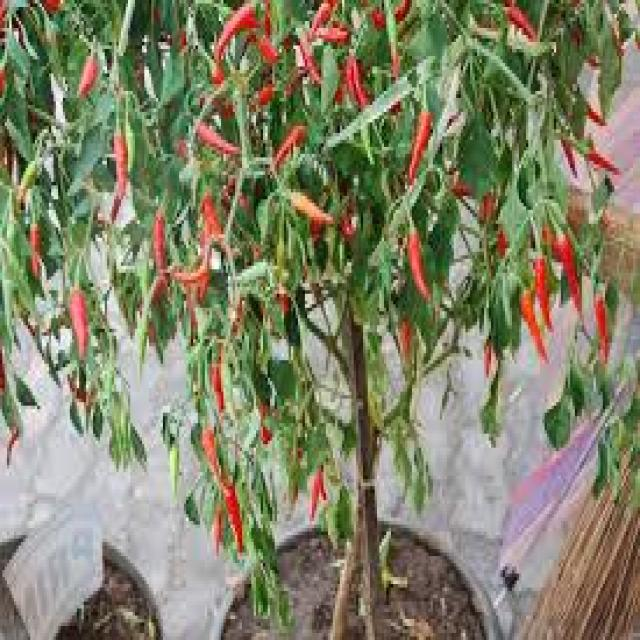Mosaic_virus: (0, 2, 640, 462)
